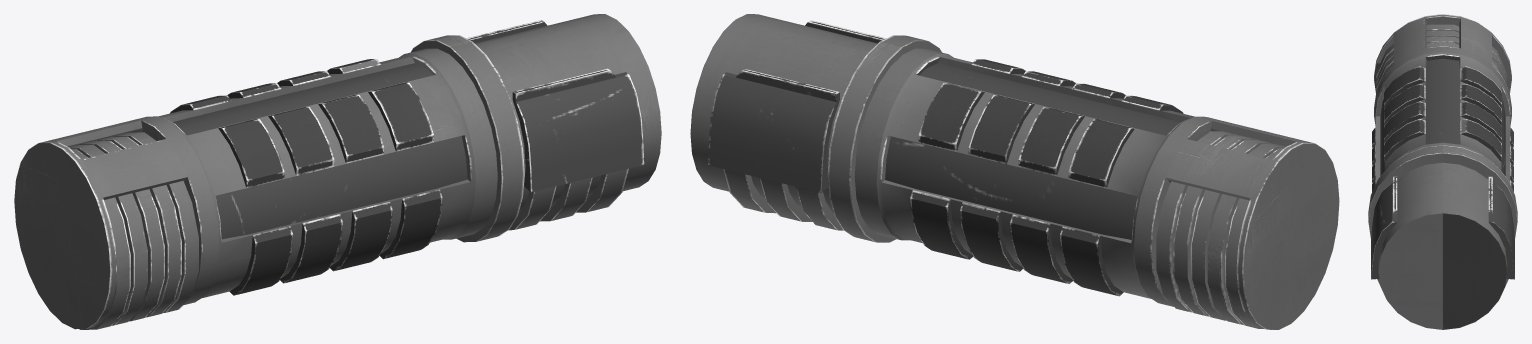
The model's file is grip_20_r_a.glb.
The picture shows the model from 3 angles, left to right: view 1: azimuth 30°, elevation 25°; view 2: azimuth 150°, elevation 25°; view 3: azimuth 270°, elevation 25°; orthographic projection. The views are drawn at different scales.
Parts seen in each view (by area): view 1: grip_20_r_a_lod0; view 2: grip_20_r_a_lod0; view 3: grip_20_r_a_lod0.
Part boxes in pixels (x1=…): grip_20_r_a_lod0: x1=14, y1=14, x2=661, y2=329; grip_20_r_a_lod0: x1=690, y1=14, x2=1339, y2=329; grip_20_r_a_lod0: x1=1368, y1=14, x2=1517, y2=329.
Size of what is drawn, in the model's own units: 0.1039 by 0.0337 by 0.0337.
1 material, 1 textured.
